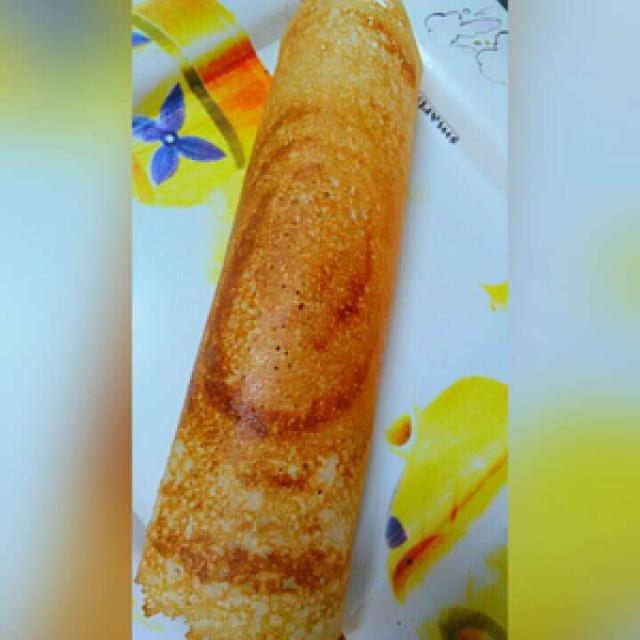dosa: (124, 0, 444, 640)
